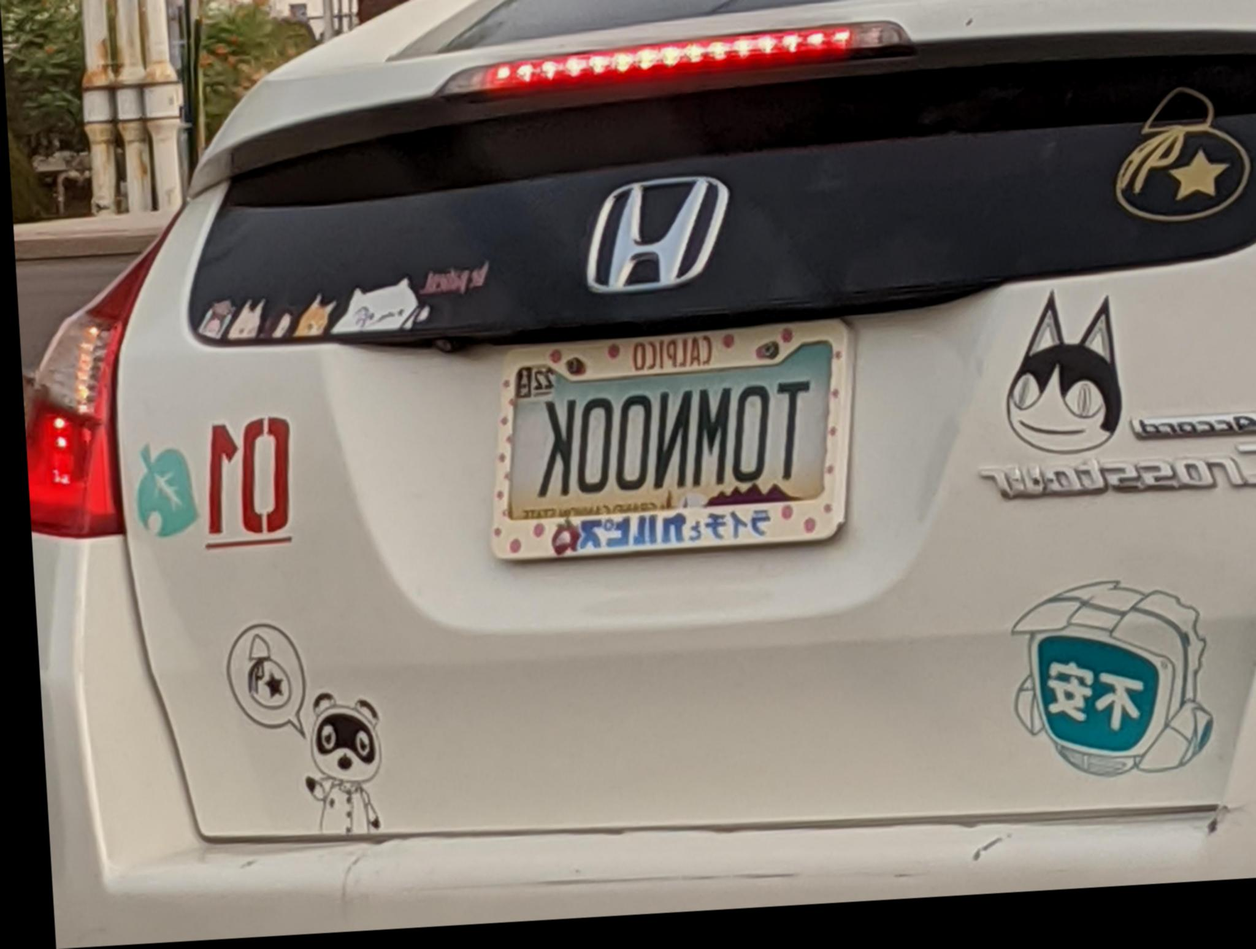License_Plate: (433, 301, 880, 602)
